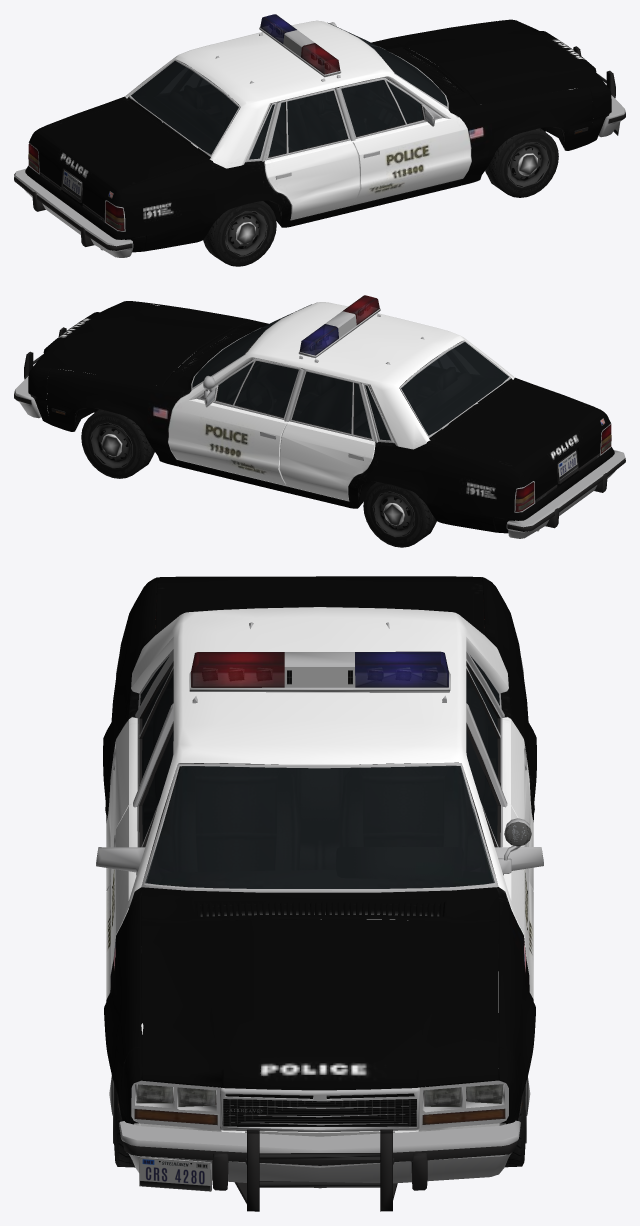
File: car_cop.glb
3 views of the same model, one above another, from view 1: azimuth 30°, elevation 25°; view 2: azimuth 150°, elevation 25°; view 3: azimuth 270°, elevation 25° (orthographic). The views are drawn at different scales.
Parts seen in each view (by area): view 1: Fairheaven_LT80_Front_Plate001_Fairheaven_LT80_Bodymat_0, Fairheaven_LT80_Lightbar_Glass_UCB_Lights_and_Glass_Transper, Fairheaven_LT80_Interior001_UCB_Interior_Trim_0, Fairheaven_LT80_Lightbar_UCB_BOTTOM_GT_0, Fairheaven_LT80_WheelStamp_FL_RB1c_Tire_1k_0, Fairheaven_LT80_Brakelights001_UCB_Lights_and_Glass_0, Fairheaven_LT80_Cop_Numberplate_Rear_Numberplates_Misk_U_0; view 2: Fairheaven_LT80_Front_Plate001_Fairheaven_LT80_Bodymat_0, Fairheaven_LT80_Lightbar_Glass_UCB_Lights_and_Glass_Transper, Fairheaven_LT80_Interior001_UCB_Interior_Trim_0, Fairheaven_LT80_Lightbar_UCB_BOTTOM_GT_0, Fairheaven_LT80_WheelStamp_FL_RB1c_Tire_1k_0, Fairheaven_LT80_Brakelights001_UCB_Lights_and_Glass_0; view 3: Fairheaven_LT80_Front_Plate001_Fairheaven_LT80_Bodymat_0, Fairheaven_LT80_Lightbar_Glass_UCB_Lights_and_Glass_Transper, Fairheaven_LT80_Lightbar_UCB_BOTTOM_GT_0, Fairheaven_LT80_Interior001_UCB_Interior_Trim_0, Fairheaven_LT80_Brakelights001_UCB_Lights_and_Glass_0, Fairheaven_LT80_Cop_Numberplate_Rear_Numberplates_Misk_U_0, Fairheaven_LT80_WheelStamp_FL_RB1c_Tire_1k_0.
Part boxes in pixels (left/top/right/bottom): Fairheaven_LT80_Front_Plate001_Fairheaven_LT80_Bodymat_0: left=25, top=19, right=611, bottom=252; Fairheaven_LT80_Lightbar_Glass_UCB_Lights_and_Glass_Transper: left=28, top=14, right=447, bottom=229; Fairheaven_LT80_Interior001_UCB_Interior_Trim_0: left=38, top=46, right=449, bottom=219; Fairheaven_LT80_Lightbar_UCB_BOTTOM_GT_0: left=14, top=22, right=625, bottom=257; Fairheaven_LT80_WheelStamp_FL_RB1c_Tire_1k_0: left=203, top=128, right=558, bottom=266; Fairheaven_LT80_Brakelights001_UCB_Lights_and_Glass_0: left=28, top=146, right=124, bottom=230; Fairheaven_LT80_Cop_Numberplate_Rear_Numberplates_Misk_U_0: left=62, top=122, right=620, bottom=199; Fairheaven_LT80_Front_Plate001_Fairheaven_LT80_Bodymat_0: left=28, top=301, right=614, bottom=533; Fairheaven_LT80_Lightbar_Glass_UCB_Lights_and_Glass_Transper: left=192, top=295, right=611, bottom=510; Fairheaven_LT80_Interior001_UCB_Interior_Trim_0: left=190, top=327, right=601, bottom=499; Fairheaven_LT80_Lightbar_UCB_BOTTOM_GT_0: left=14, top=304, right=625, bottom=538; Fairheaven_LT80_WheelStamp_FL_RB1c_Tire_1k_0: left=81, top=409, right=436, bottom=547; Fairheaven_LT80_Brakelights001_UCB_Lights_and_Glass_0: left=515, top=427, right=611, bottom=511; Fairheaven_LT80_Front_Plate001_Fairheaven_LT80_Bodymat_0: left=103, top=576, right=536, bottom=1136; Fairheaven_LT80_Lightbar_Glass_UCB_Lights_and_Glass_Transper: left=134, top=651, right=505, bottom=1125; Fairheaven_LT80_Lightbar_UCB_BOTTOM_GT_0: left=96, top=619, right=543, bottom=1211; Fairheaven_LT80_Interior001_UCB_Interior_Trim_0: left=140, top=660, right=499, bottom=892; Fairheaven_LT80_Brakelights001_UCB_Lights_and_Glass_0: left=137, top=600, right=502, bottom=1106; Fairheaven_LT80_Cop_Numberplate_Rear_Numberplates_Misk_U_0: left=139, top=1157, right=211, bottom=1191; Fairheaven_LT80_WheelStamp_FL_RB1c_Tire_1k_0: left=109, top=1075, right=530, bottom=1167.
Size of the model in its own units: 5.07 by 1.49 by 1.82.
Materials: 7 (7 with a texture image).
